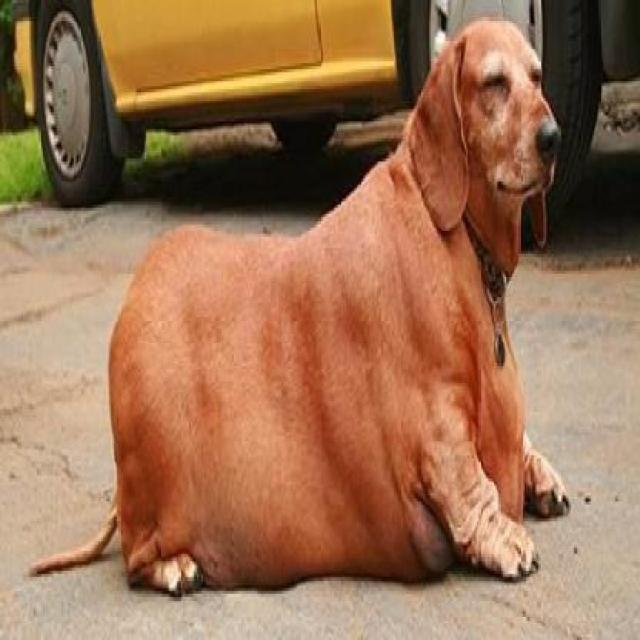Dog: (17, 12, 574, 603)
